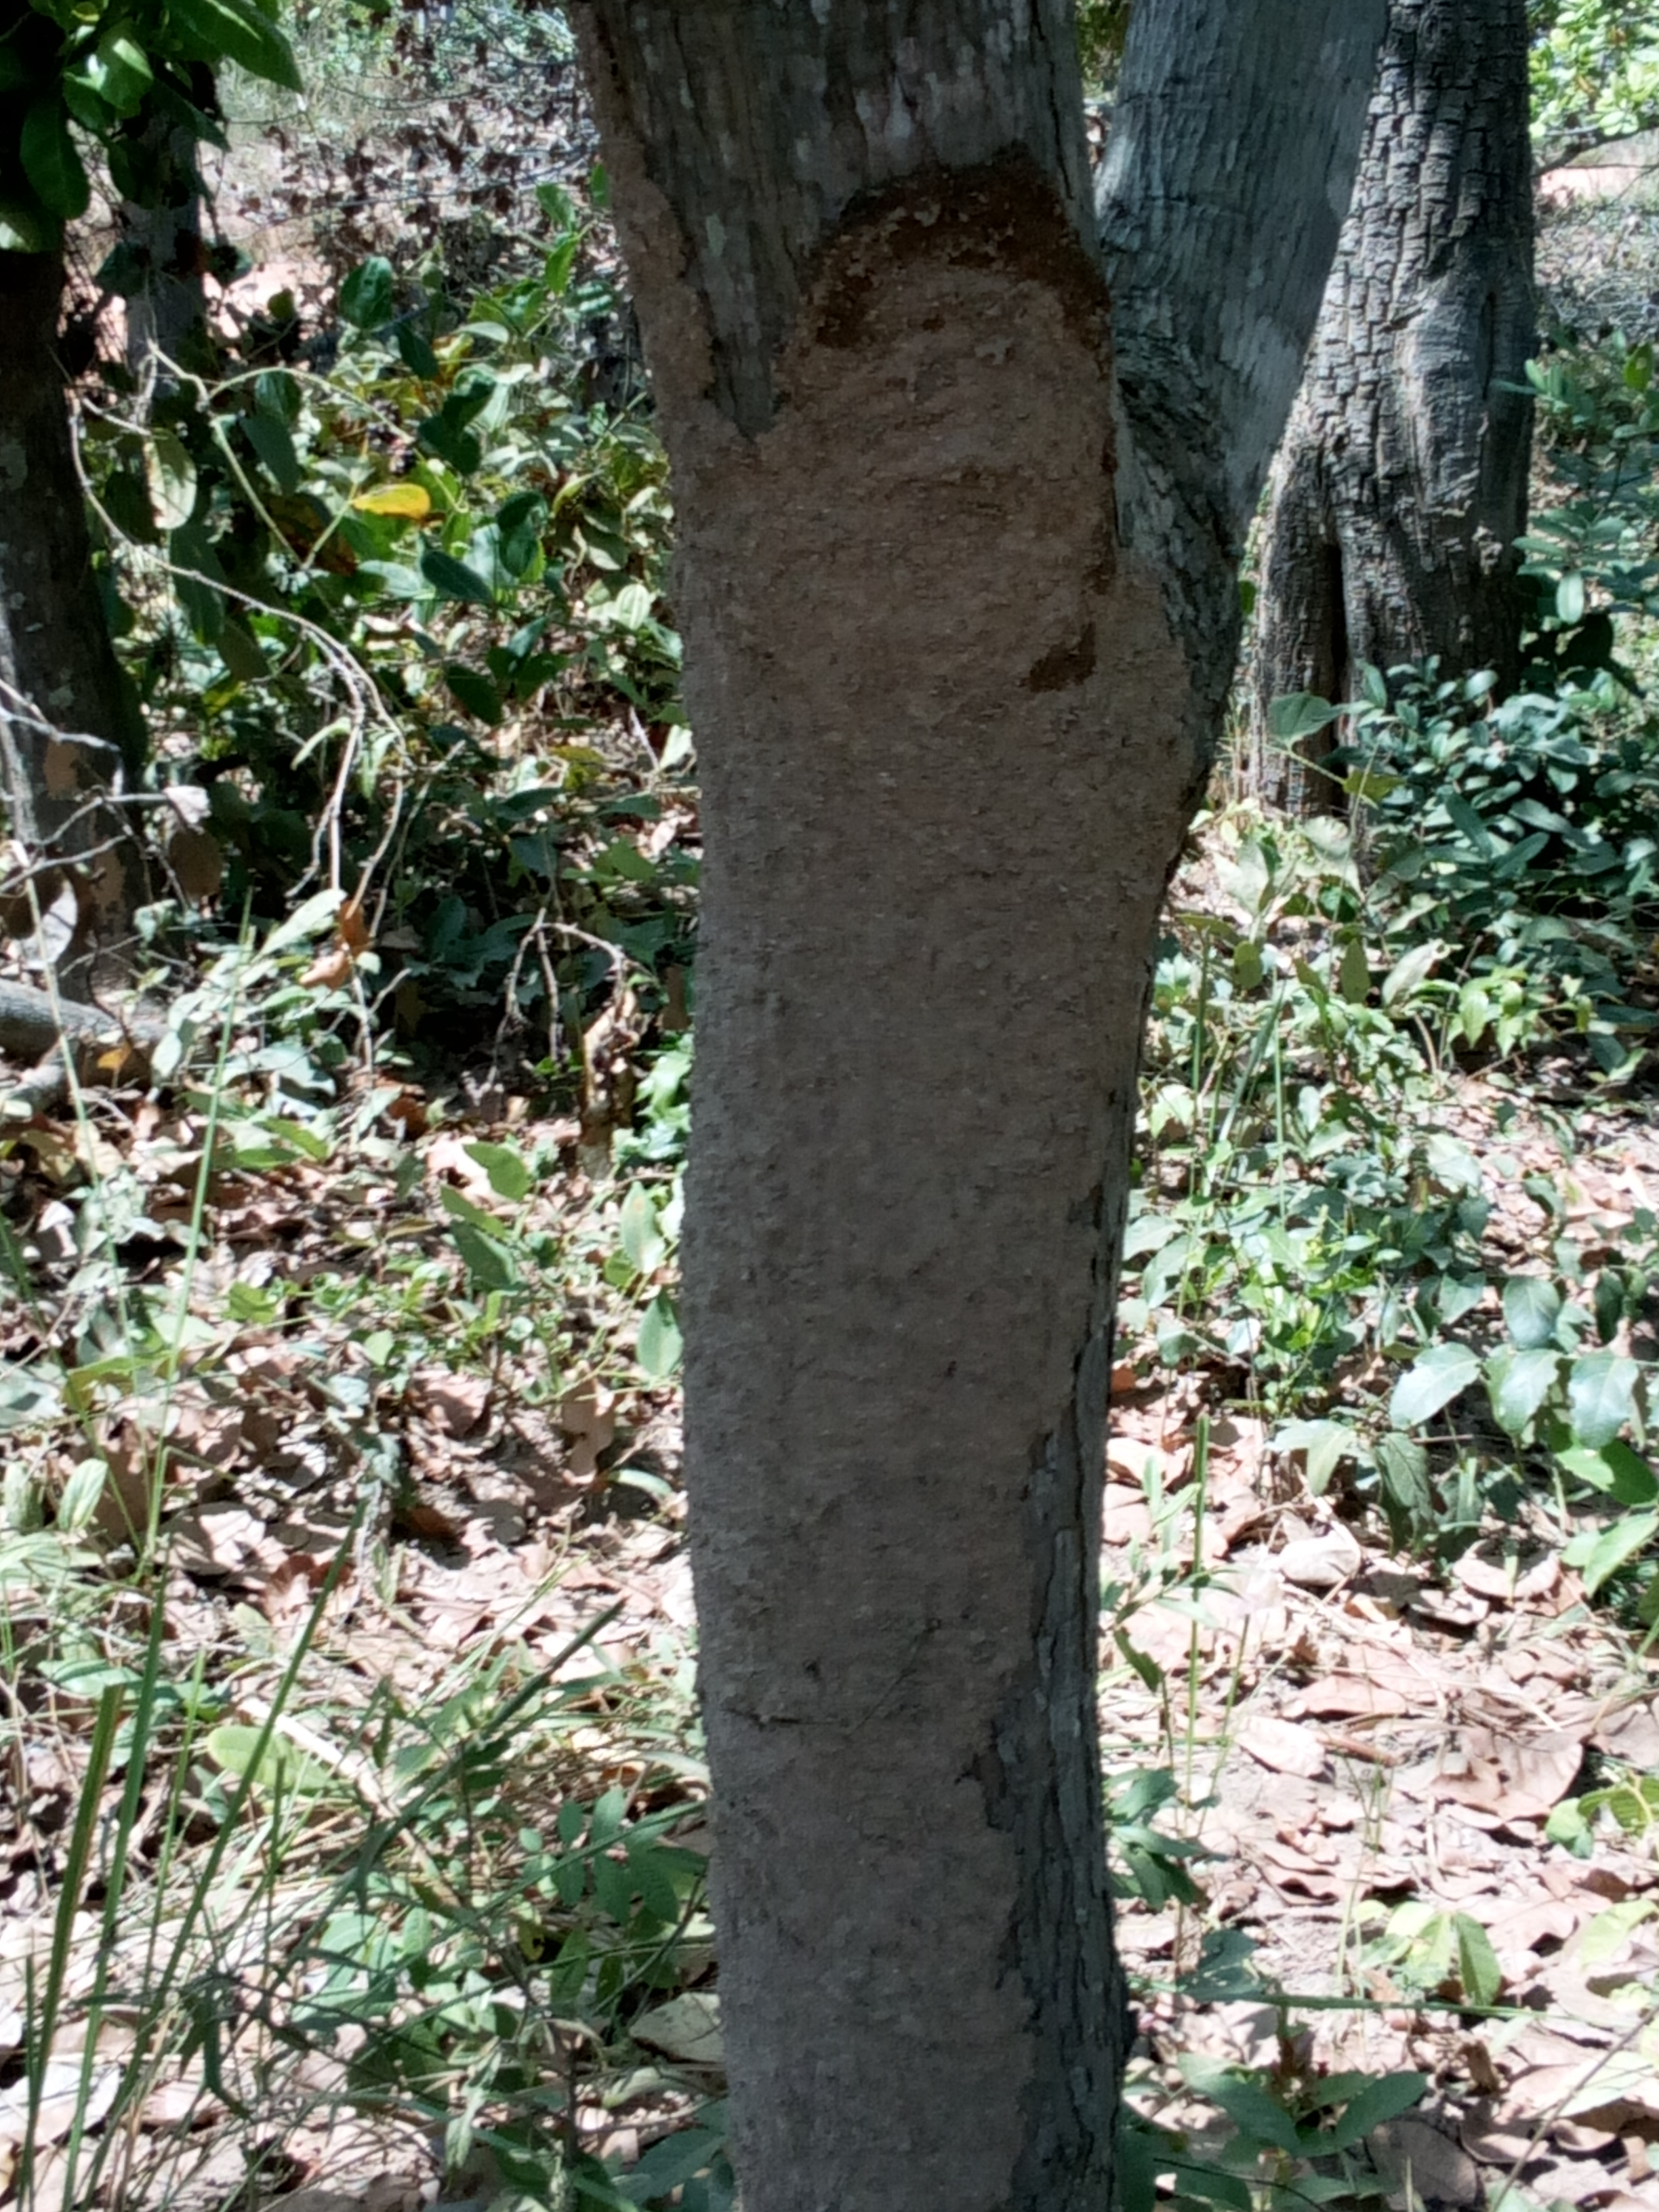Termites: (674, 428, 1138, 2210)
